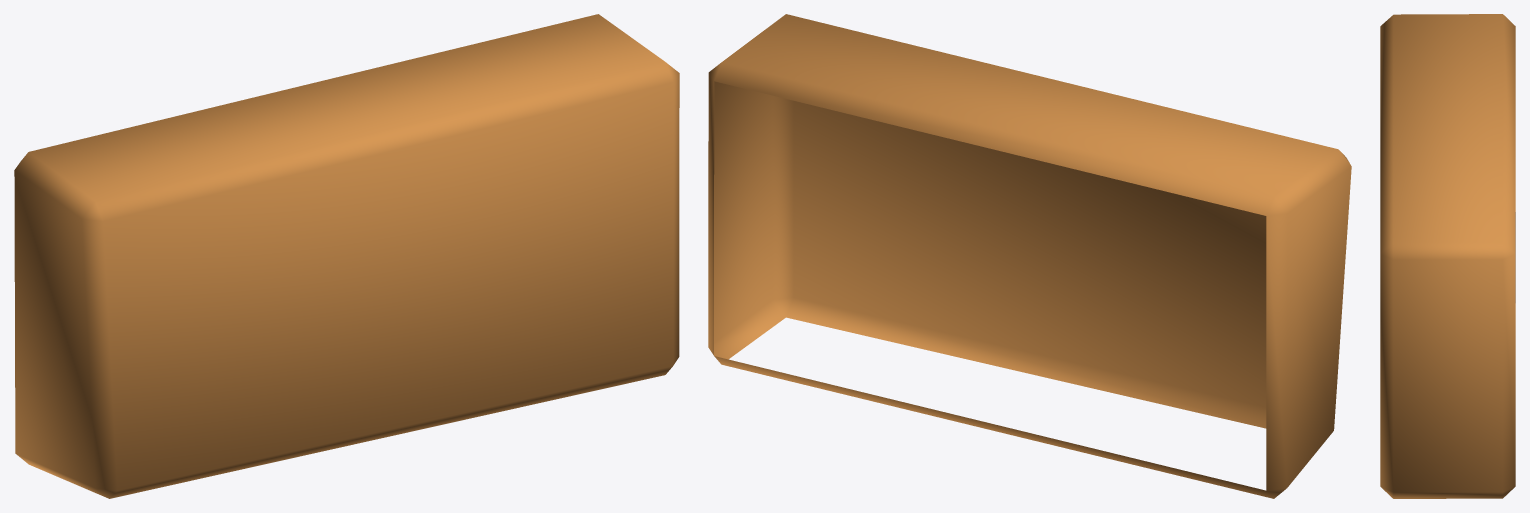
Rendered from block_e_lo.glb.
3 views of the same model, side by side, from view 1: azimuth 30°, elevation 25°; view 2: azimuth 150°, elevation 25°; view 3: azimuth 270°, elevation 25° (orthographic). The views are drawn at different scales.
Parts seen in each view (by area): view 1: block_e_lo; view 2: block_e_lo; view 3: block_e_lo.
Part boxes in pixels (<box>): block_e_lo: <box>14,14,679,498</box>; block_e_lo: <box>708,14,1351,498</box>; block_e_lo: <box>1380,14,1515,498</box>.
Bounding box in the file's own units: 1.5 × 0.7509 × 0.3587.
